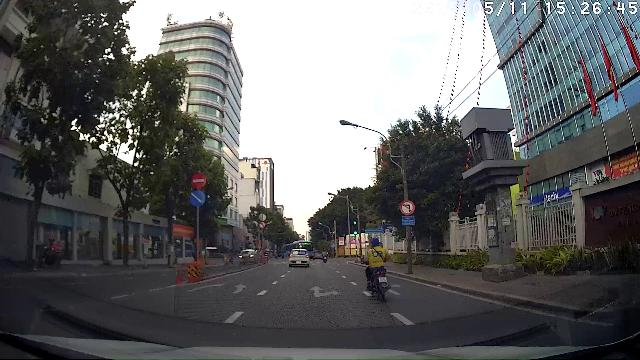102-cam-di-nguoc-chieu: (190, 172, 206, 188)
123a-cam-re-trai: (400, 200, 414, 216)
302a-huong-phai-di-vong-chuong-ngai-vat-1: (189, 190, 205, 206)
